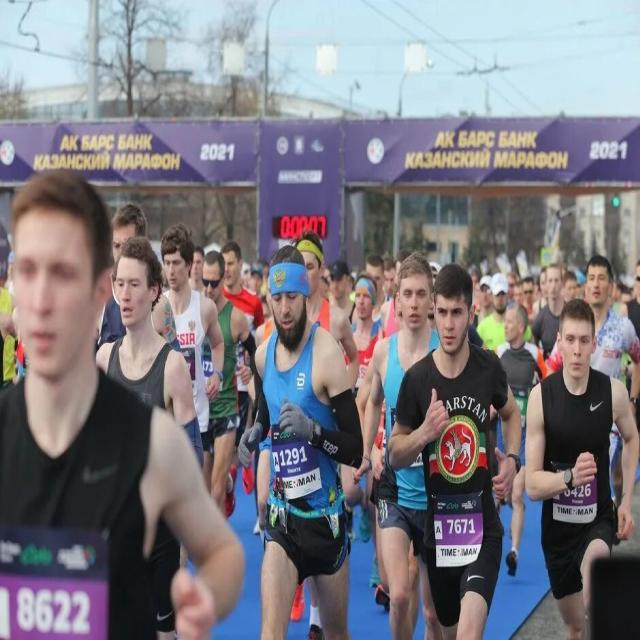Bib: (10, 578, 99, 638), (275, 442, 312, 471), (443, 515, 478, 540)
